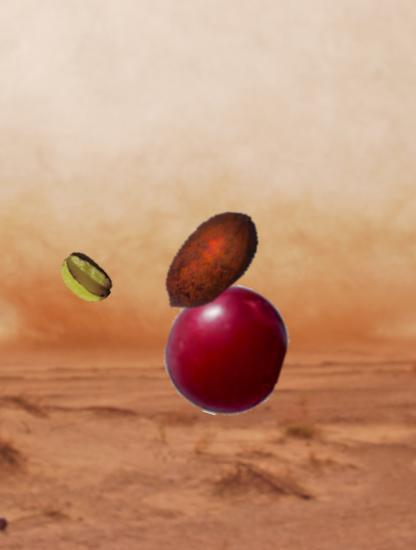Carambula: (57, 250, 115, 308)
Cherry: (160, 284, 292, 416)
Nut: (149, 200, 271, 322)
